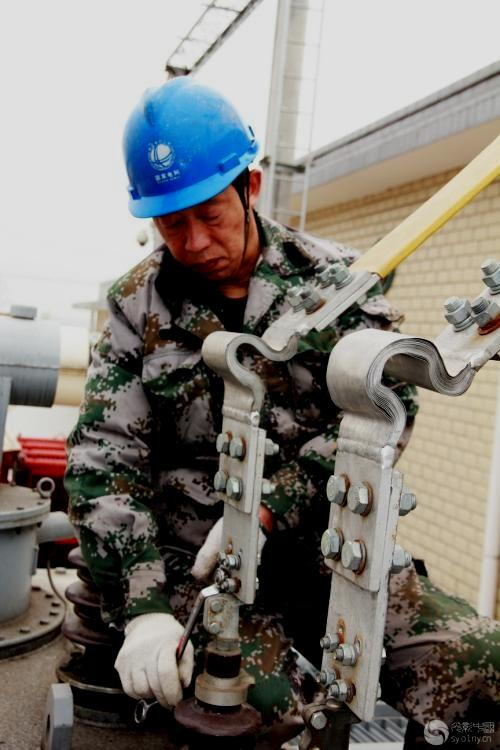helmet: (113, 73, 278, 280)
not_reflective: (61, 244, 399, 595)
